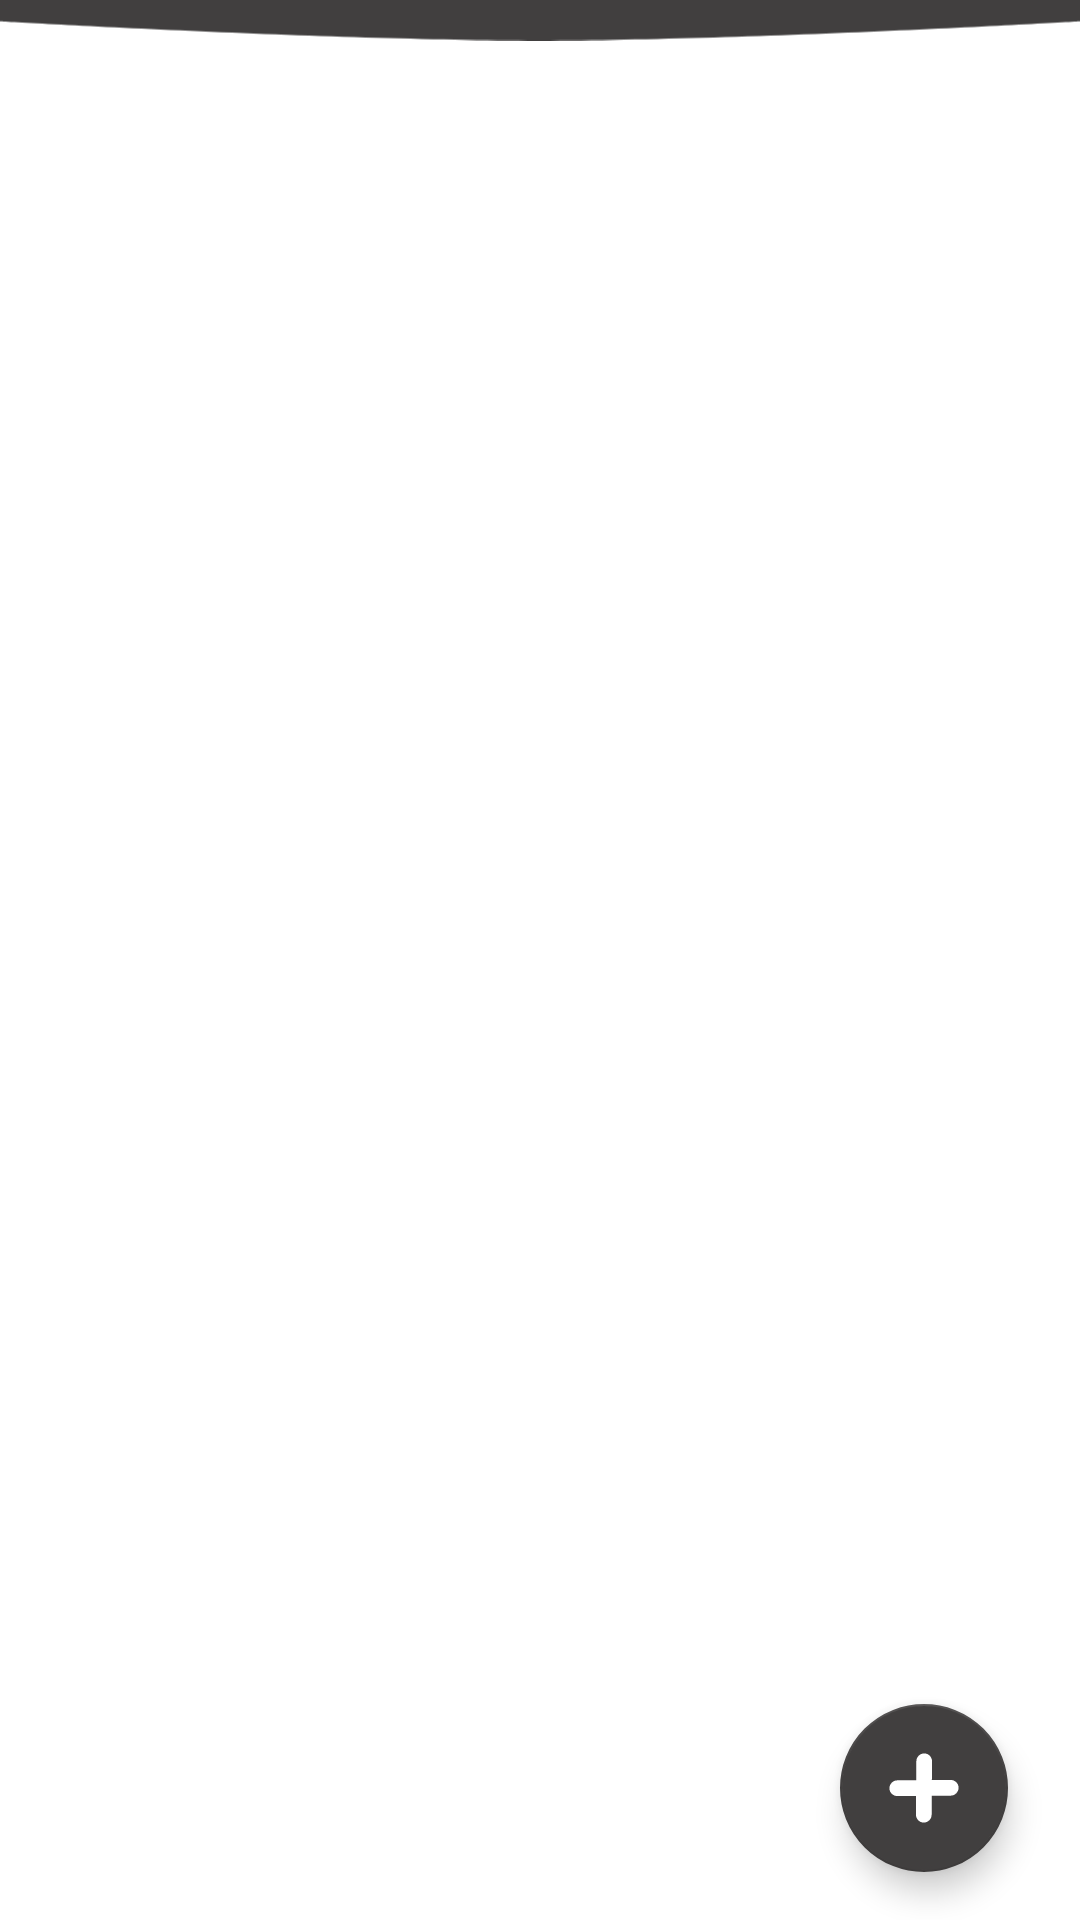

Icons on this 1080 x 1920 Android screen, each with the point to tap as (x=x, y=y):
add: (x=924, y=1788)
